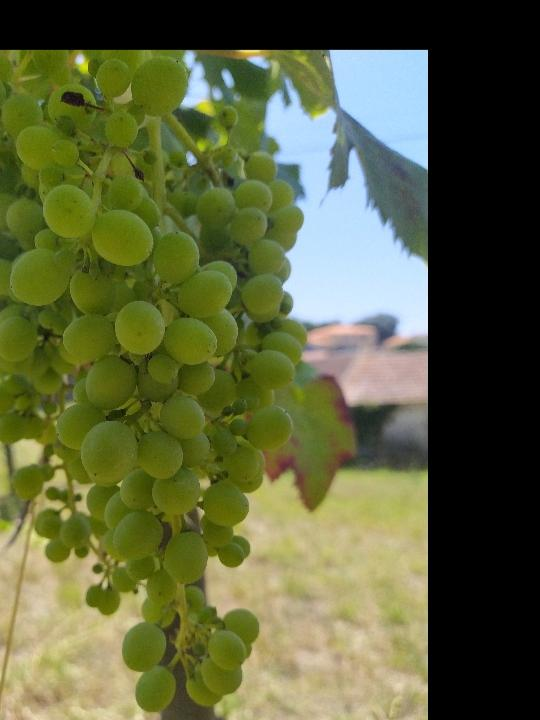grape: (0, 52, 311, 712)
